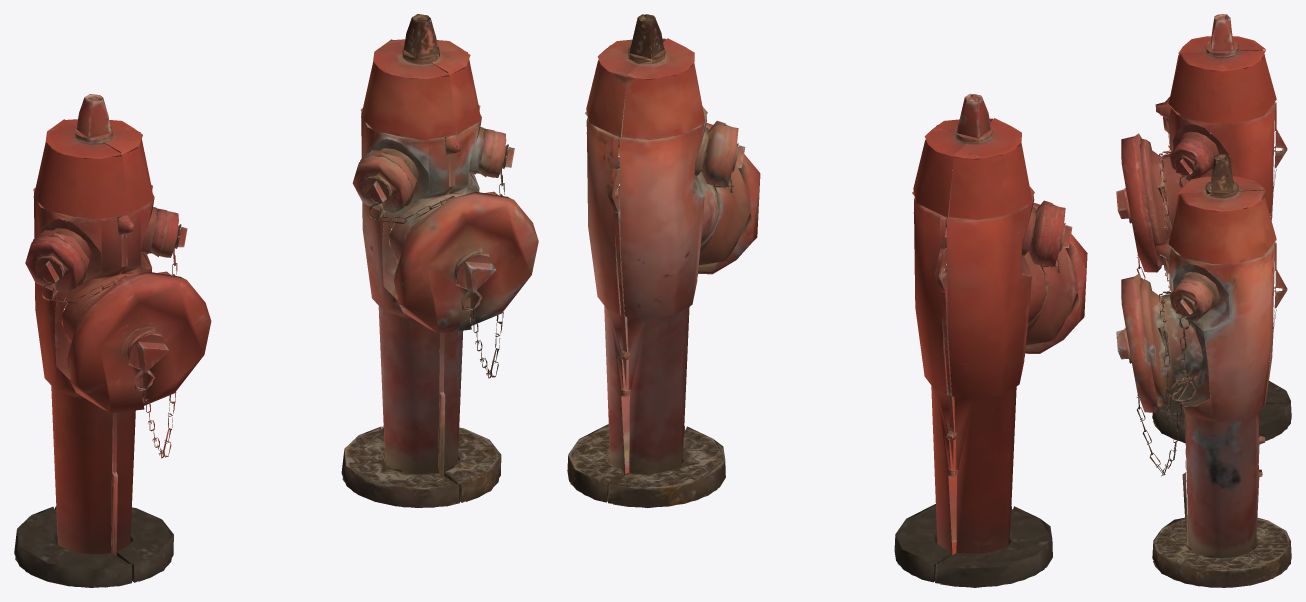
File: fire_hydrant.glb
3 renders of one model, left to right at view 1: azimuth 30°, elevation 25°; view 2: azimuth 150°, elevation 25°; view 3: azimuth 270°, elevation 25°, orthographic. The views are drawn at different scales.
Visible parts, largest first — view 1: fire_hydrant; view 2: fire_hydrant; view 3: fire_hydrant.
Part boxes in pixels (left/top/right/bottom): fire_hydrant: left=14, top=14, right=538, bottom=587; fire_hydrant: left=567, top=14, right=1087, bottom=587; fire_hydrant: left=1116, top=14, right=1291, bottom=587.
Size of the model in its own units: 0.8742 by 0.8003 by 0.3173.
Materials: 2 (2 with a texture image).
